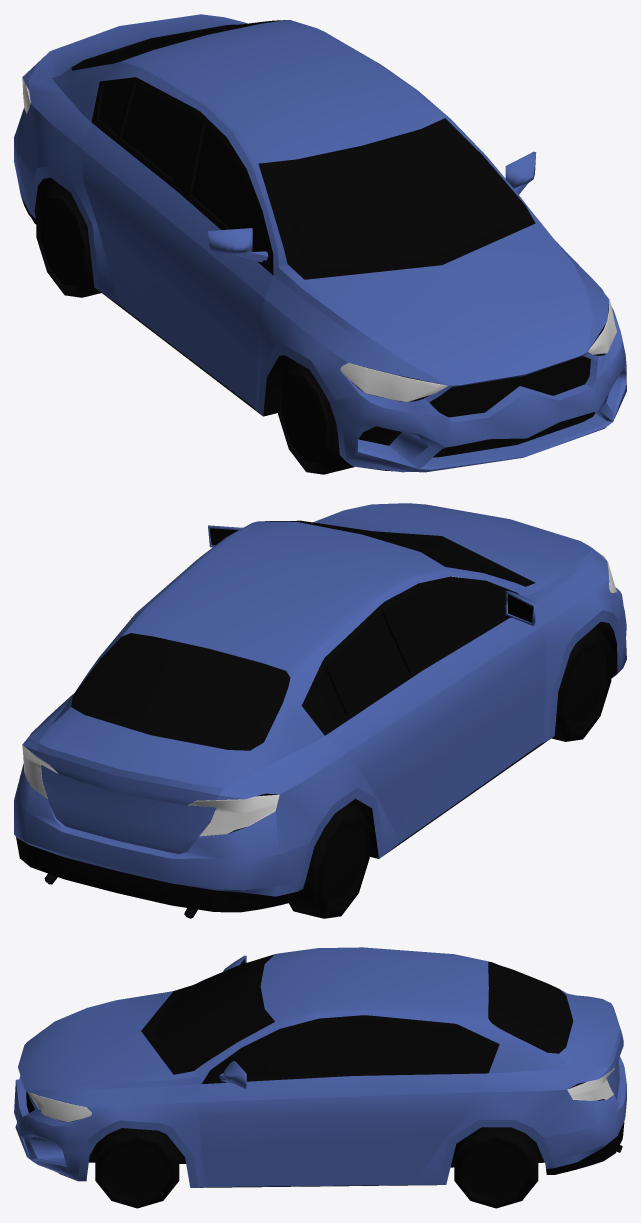
File: EgeaLodHukuk.fbx
3 renders of one model, top to bottom at view 1: azimuth 30°, elevation 25°; view 2: azimuth 150°, elevation 25°; view 3: azimuth 270°, elevation 25°, orthographic. The views are drawn at different scales.
Parts seen in each view (by area): view 1: group1_polySurface6, pCylinder2, pCylinder1; view 2: group1_polySurface6, pCylinder1, pCylinder2; view 3: group1_polySurface6, pCylinder4, pCylinder3.
Part boxes in pixels (bbox=[...]): group1_polySurface6: bbox=[14, 14, 626, 472]; pCylinder2: bbox=[278, 361, 354, 474]; pCylinder1: bbox=[36, 182, 100, 297]; group1_polySurface6: bbox=[14, 503, 626, 918]; pCylinder1: bbox=[289, 803, 369, 918]; pCylinder2: bbox=[551, 628, 611, 741]; group1_polySurface6: bbox=[14, 947, 626, 1187]; pCylinder4: bbox=[454, 1127, 538, 1208]; pCylinder3: bbox=[95, 1128, 179, 1208].
Bounding box in the file's own units: 19.73 × 14.24 × 43.02.
